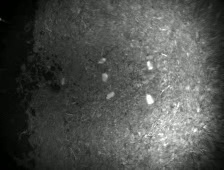corn: (143, 91, 156, 106), (103, 90, 118, 102), (144, 59, 155, 72), (96, 56, 109, 66), (100, 71, 110, 84), (59, 75, 67, 86)
